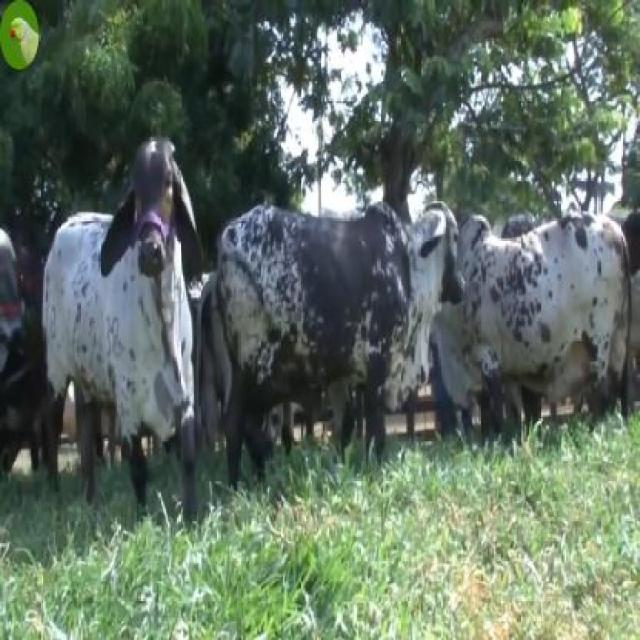Cow: (212, 200, 463, 469), (43, 132, 199, 518)
